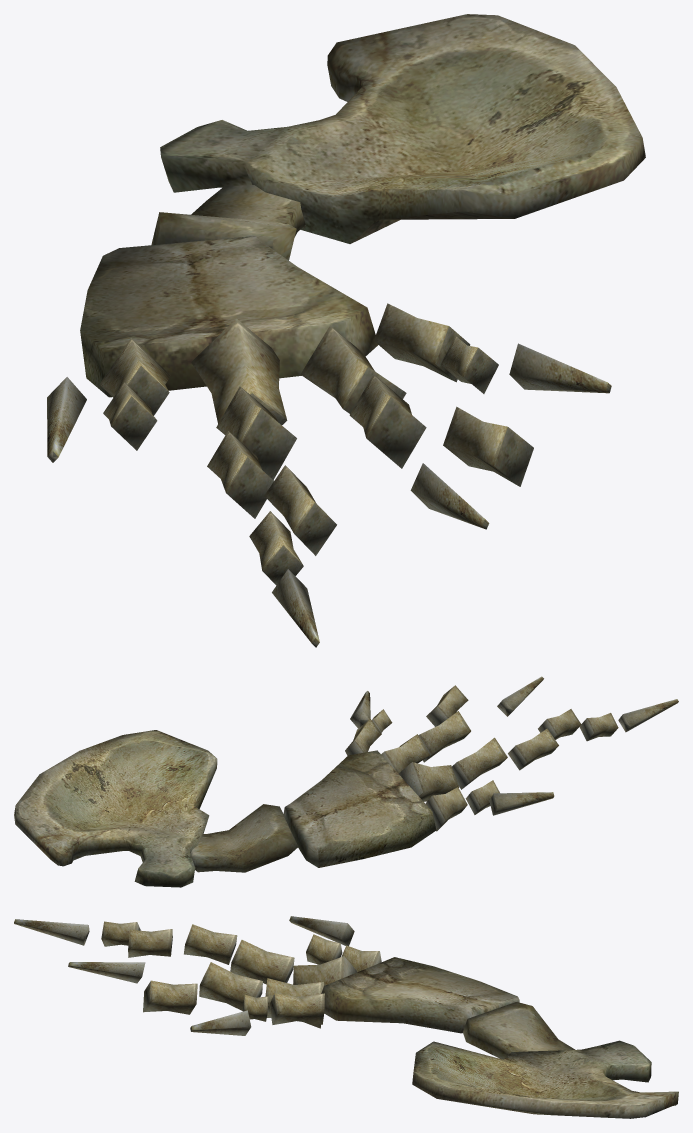
Rendered from bone_whale_arm00.fbx.
The picture shows the model from 3 angles, top to bottom: view 1: azimuth 30°, elevation 25°; view 2: azimuth 150°, elevation 25°; view 3: azimuth 270°, elevation 25°; orthographic projection. The views are drawn at different scales.
Visible parts, largest first — view 1: bone_whale_arm00; view 2: bone_whale_arm00; view 3: bone_whale_arm00.
Boxes of the visible parts, x1,y1,x2,y2 form: bone_whale_arm00: [47, 14, 645, 647]; bone_whale_arm00: [14, 676, 678, 887]; bone_whale_arm00: [14, 916, 678, 1118].
Bounding box in the file's own units: 11.77 × 1.69 × 16.03.
